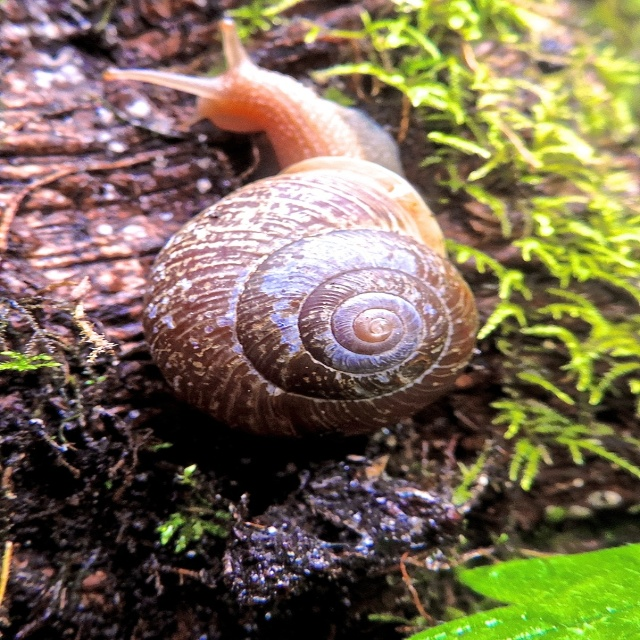Snail: (94, 16, 489, 448)
